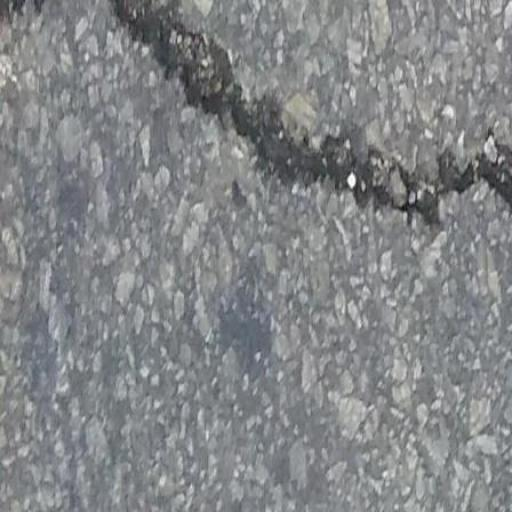spalling: (111, 0, 511, 235)
